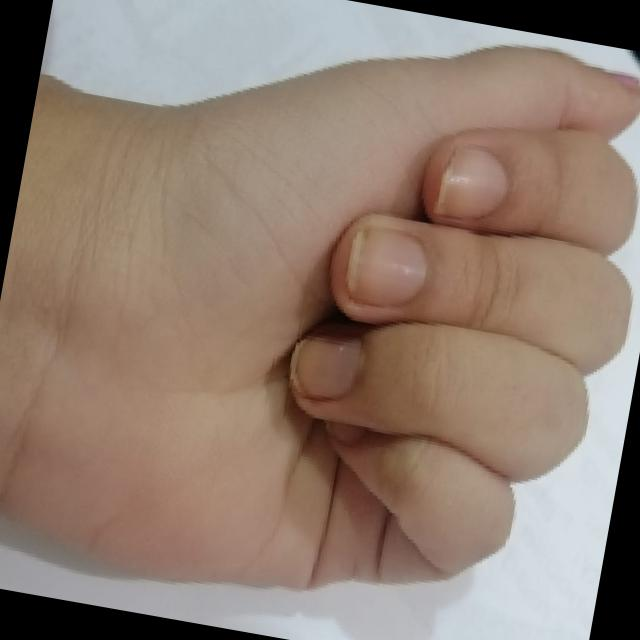Nail: (345, 229, 426, 306), (434, 146, 507, 219), (289, 334, 361, 399), (325, 421, 361, 445)
